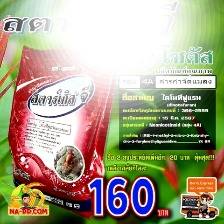insecticide: (6, 35, 123, 222)
